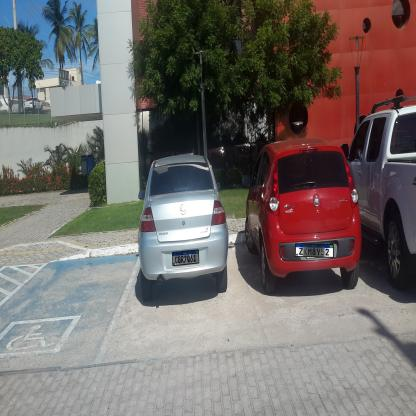PlacaM: (295, 243, 334, 258), (172, 249, 199, 266)
